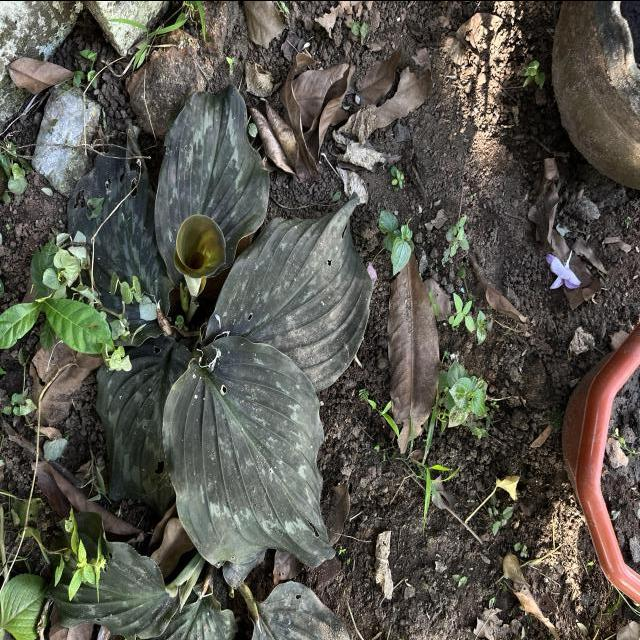Kaempferia galanga linn: (161, 333, 338, 571), (201, 189, 375, 392), (152, 80, 272, 286)
